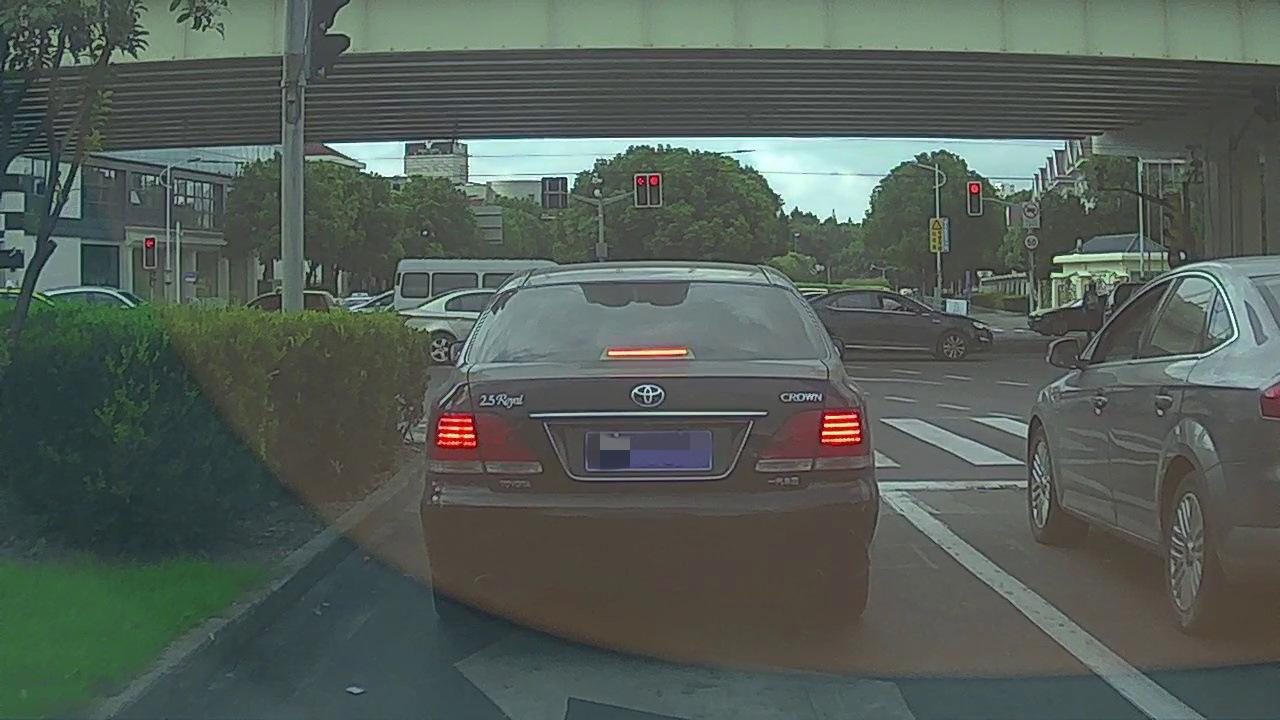traffic_light: (636, 175, 648, 206), (969, 183, 980, 214), (649, 175, 660, 205), (144, 237, 154, 267)
